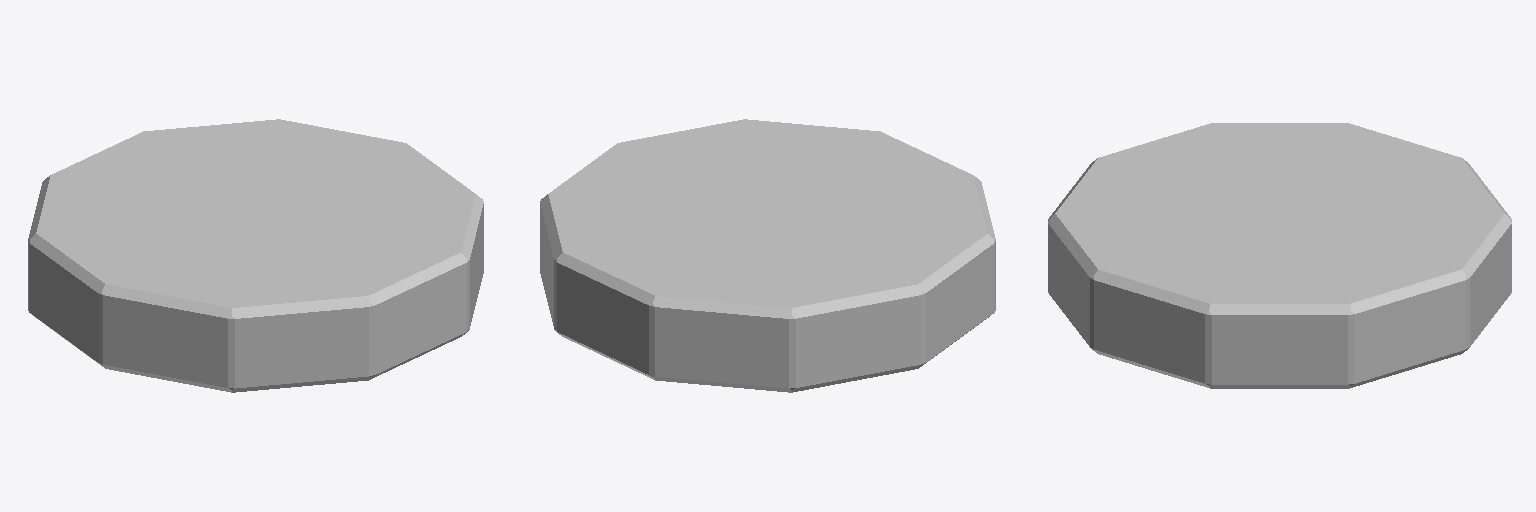
Rendered from counter_wheel.obj.
The picture shows the model from 3 angles: view 1: azimuth 30°, elevation 25°; view 2: azimuth 150°, elevation 25°; view 3: azimuth 270°, elevation 25°; orthographic projection.
Parts seen in each view (by area): view 1: Cylinder; view 2: Cylinder; view 3: Cylinder.
Boxes of the visible parts, box(x1,y1,x2,y2) form: Cylinder: box(28, 119, 483, 392); Cylinder: box(540, 119, 995, 392); Cylinder: box(1048, 123, 1511, 388).
Bounding box in the file's own units: 1.9 × 0.4 × 1.99.